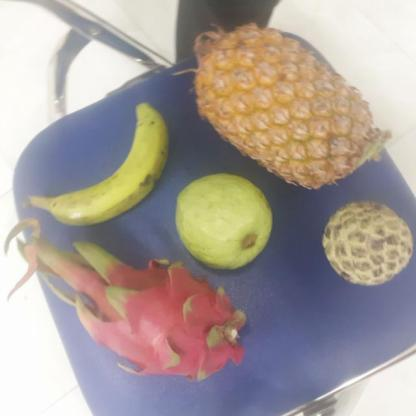annona: (319, 202, 414, 285)
guava: (173, 177, 272, 270)
pineapple: (189, 23, 382, 186)
pitaya: (74, 252, 244, 381)
